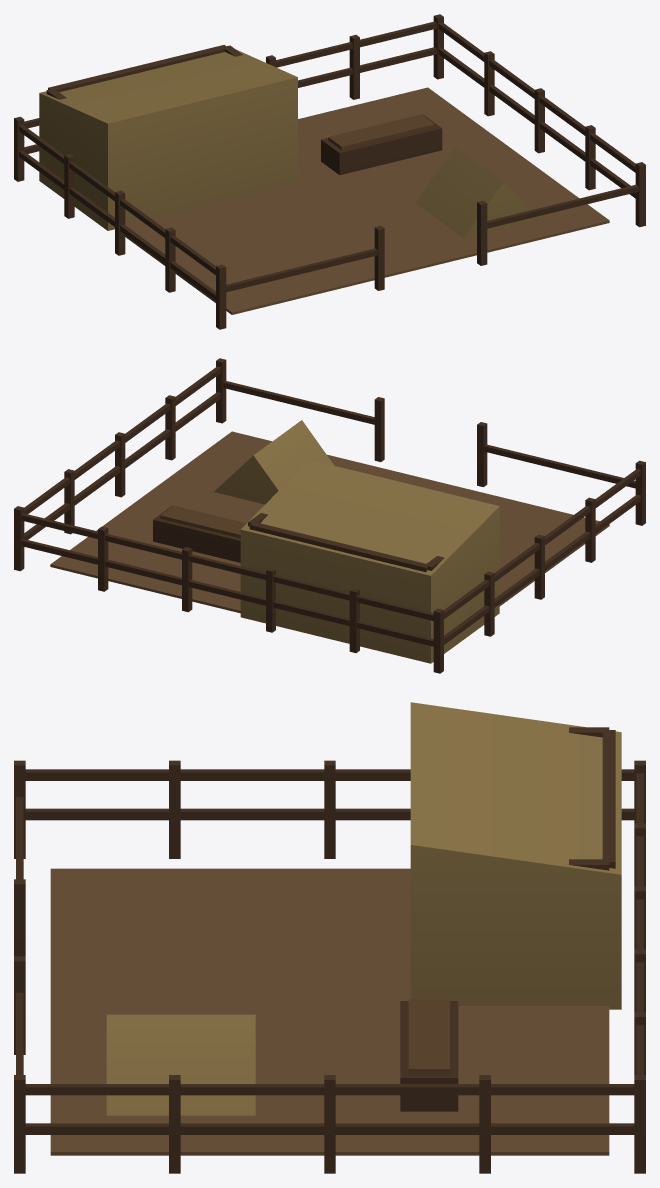
File: yard_pen.glb
The picture shows the model from 3 angles, top to bottom: view 1: azimuth 30°, elevation 25°; view 2: azimuth 150°, elevation 25°; view 3: azimuth 270°, elevation 25°; orthographic projection. The views are drawn at different scales.
Parts seen in each view (by area): view 1: prop; view 2: prop; view 3: prop.
Part boxes in pixels (box(x1,y1,x2,y2)): prop: box(14, 14, 645, 329); prop: box(14, 358, 645, 673); prop: box(14, 702, 645, 1173).
Size of the model in its own units: 9.14 by 2.2 by 7.64.
